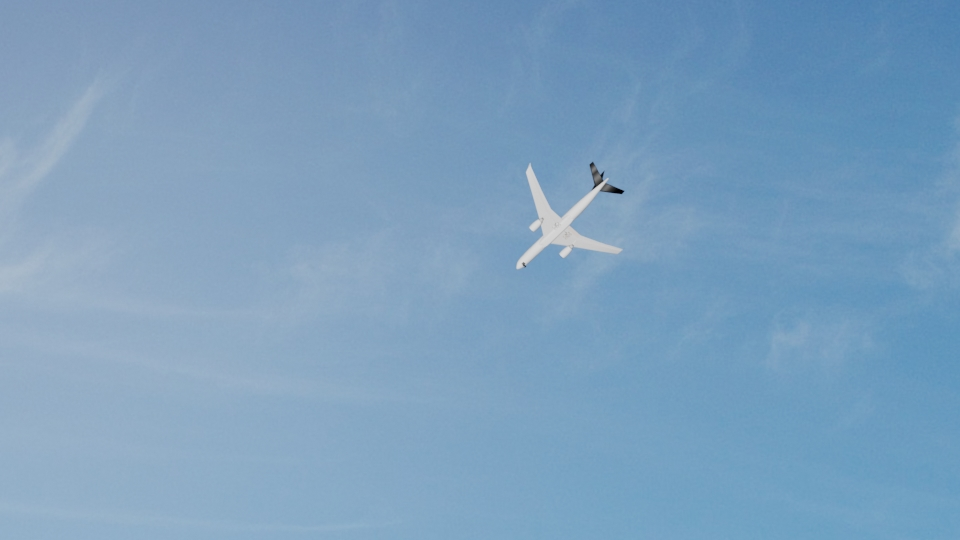plane: (513, 157, 627, 272)
